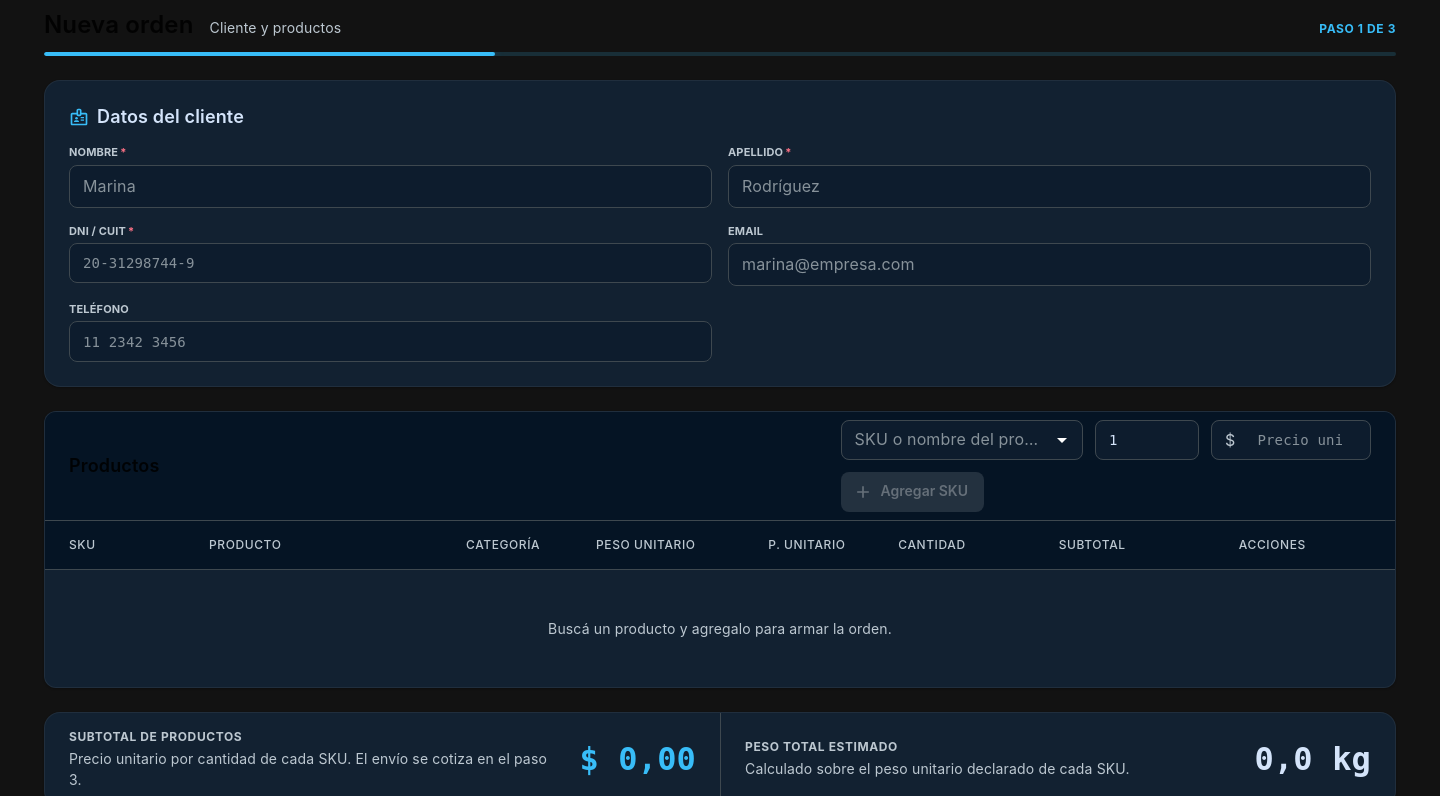
Test: NewOrderPage › keeps the next step locked with products but no customer
The width and height of the screenshot is (1440, 796).
Step 1. Type "PX-9021" into the dropdown named "Buscar por SKU o nombre" → (945, 440), box [847, 426, 1044, 454]
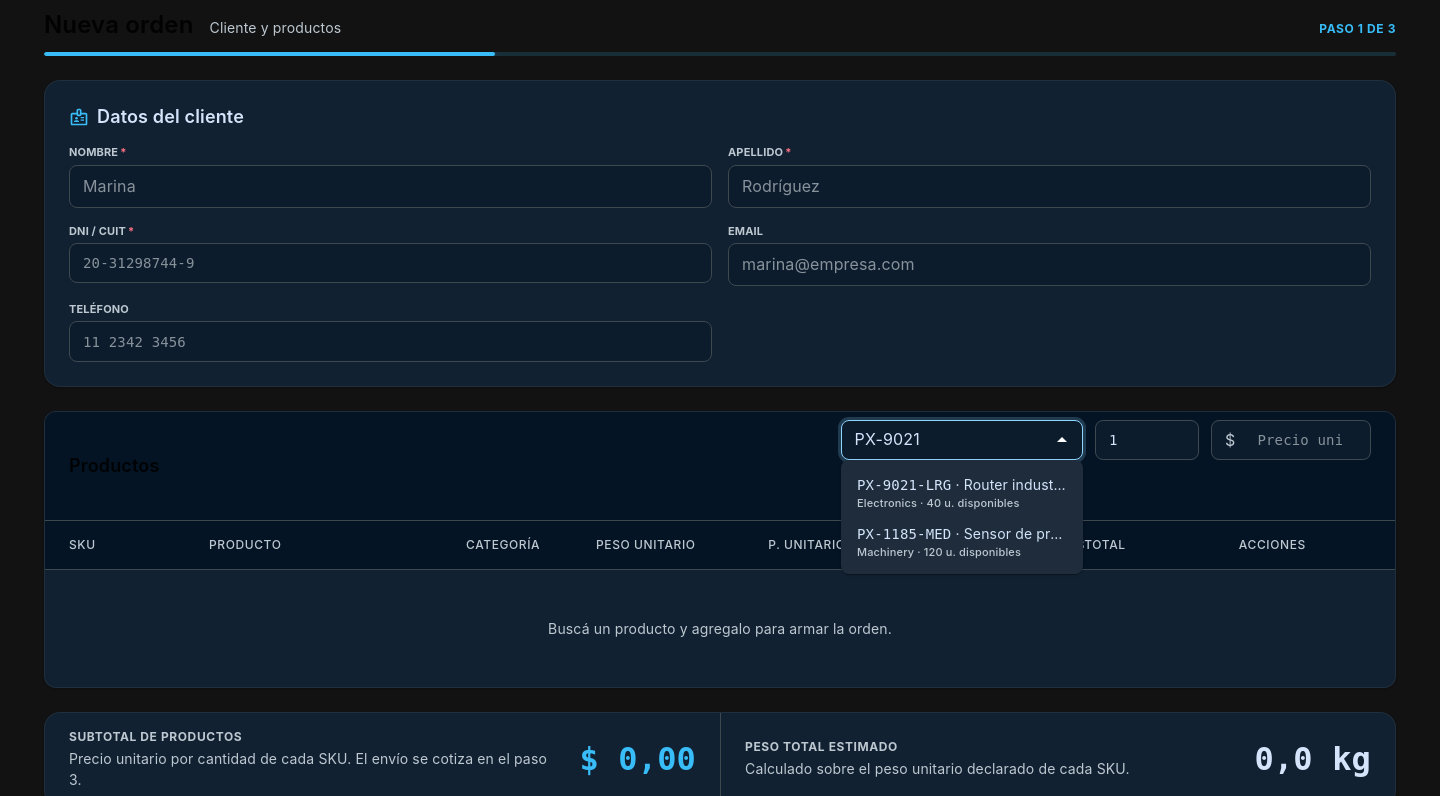
Step 2. Click the option "PX-9021" → (962, 492), box [841, 468, 1083, 517]
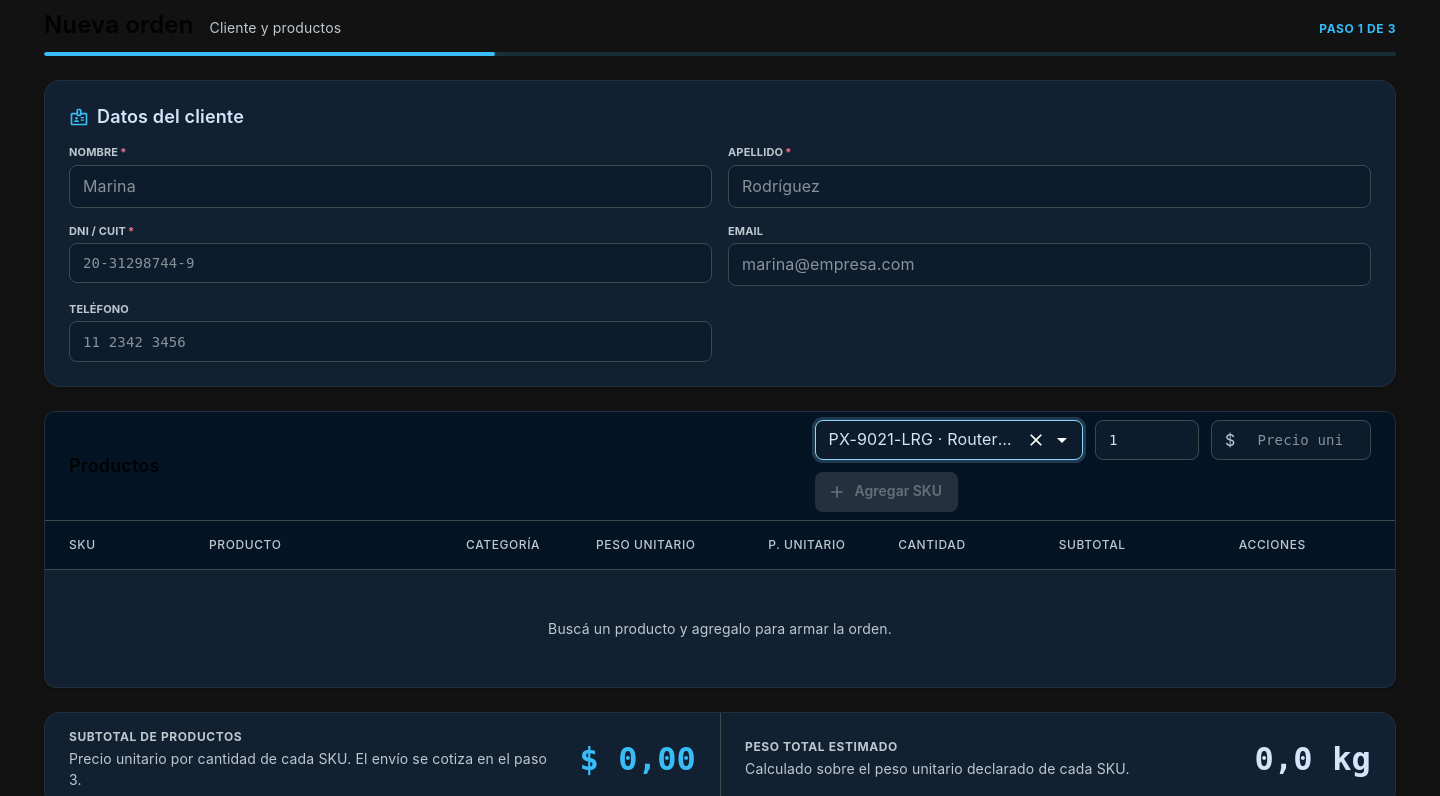
Step 3. Replace the text in the number field named "Cantidad" with "12" → (1147, 440), box [1095, 420, 1199, 460]
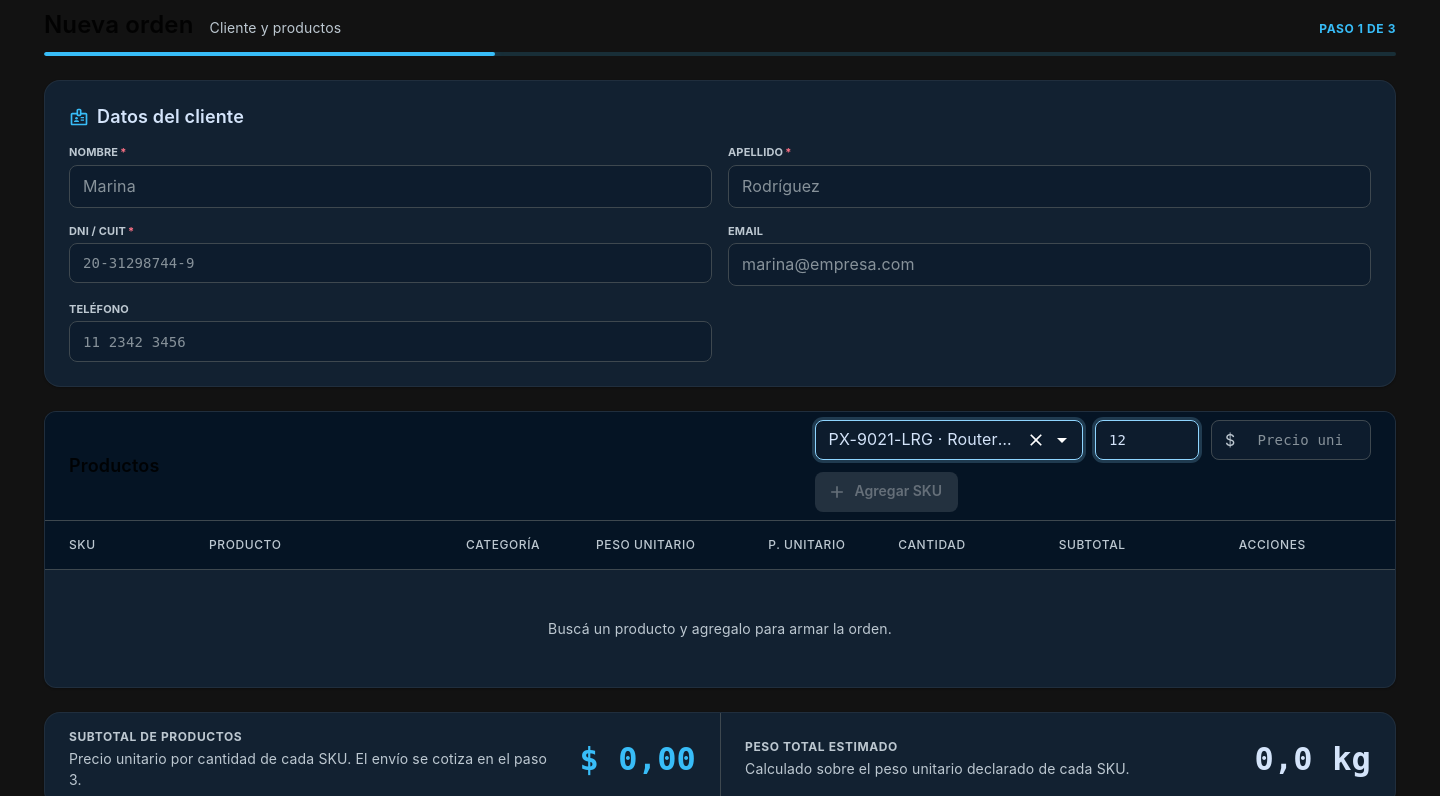
Step 4. Type "120000" into the number field labelled "Precio unitario" → (1307, 440), box [1243, 420, 1371, 460]
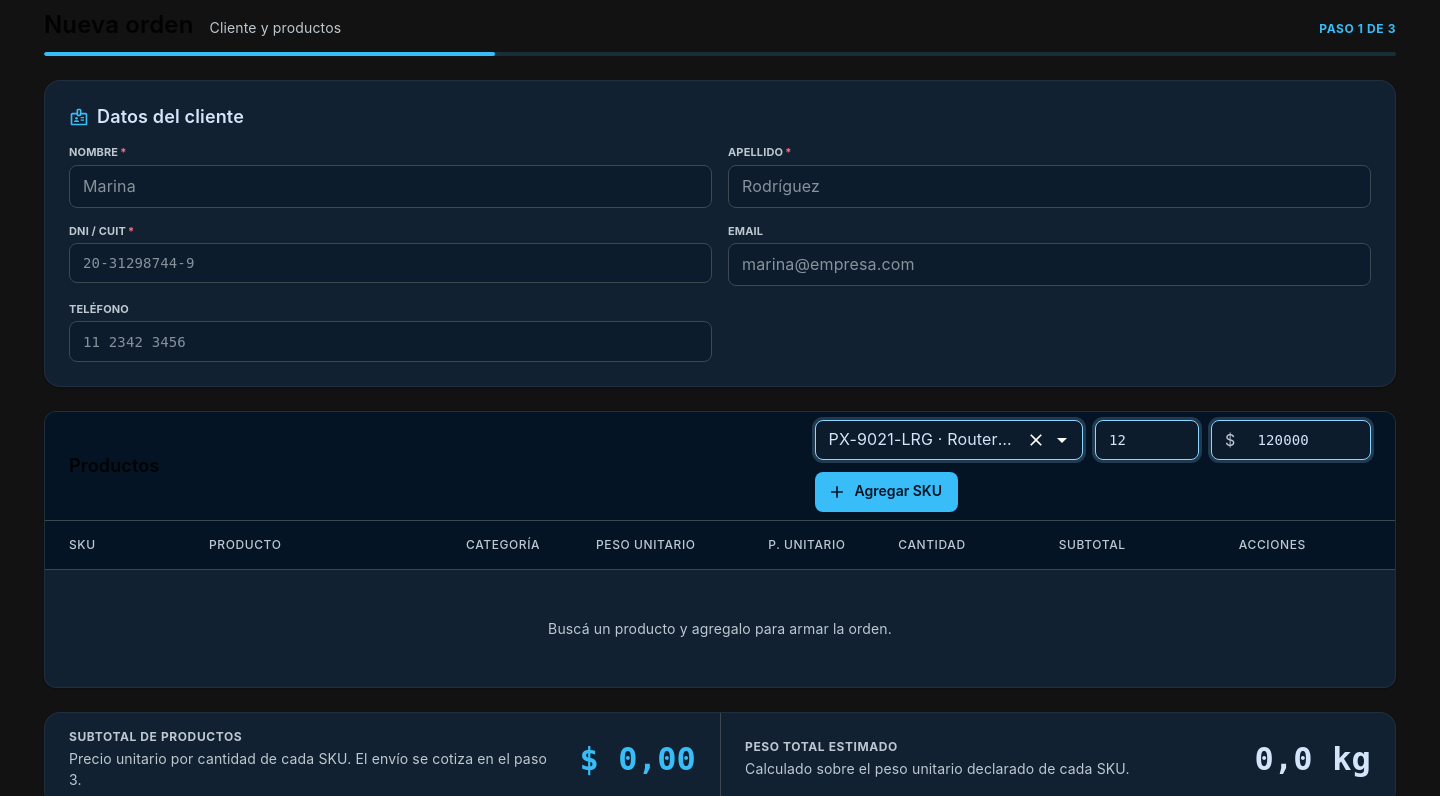
Step 5. Click the button "Agregar SKU" → (886, 492), box [815, 472, 958, 512]
(page scrolled)
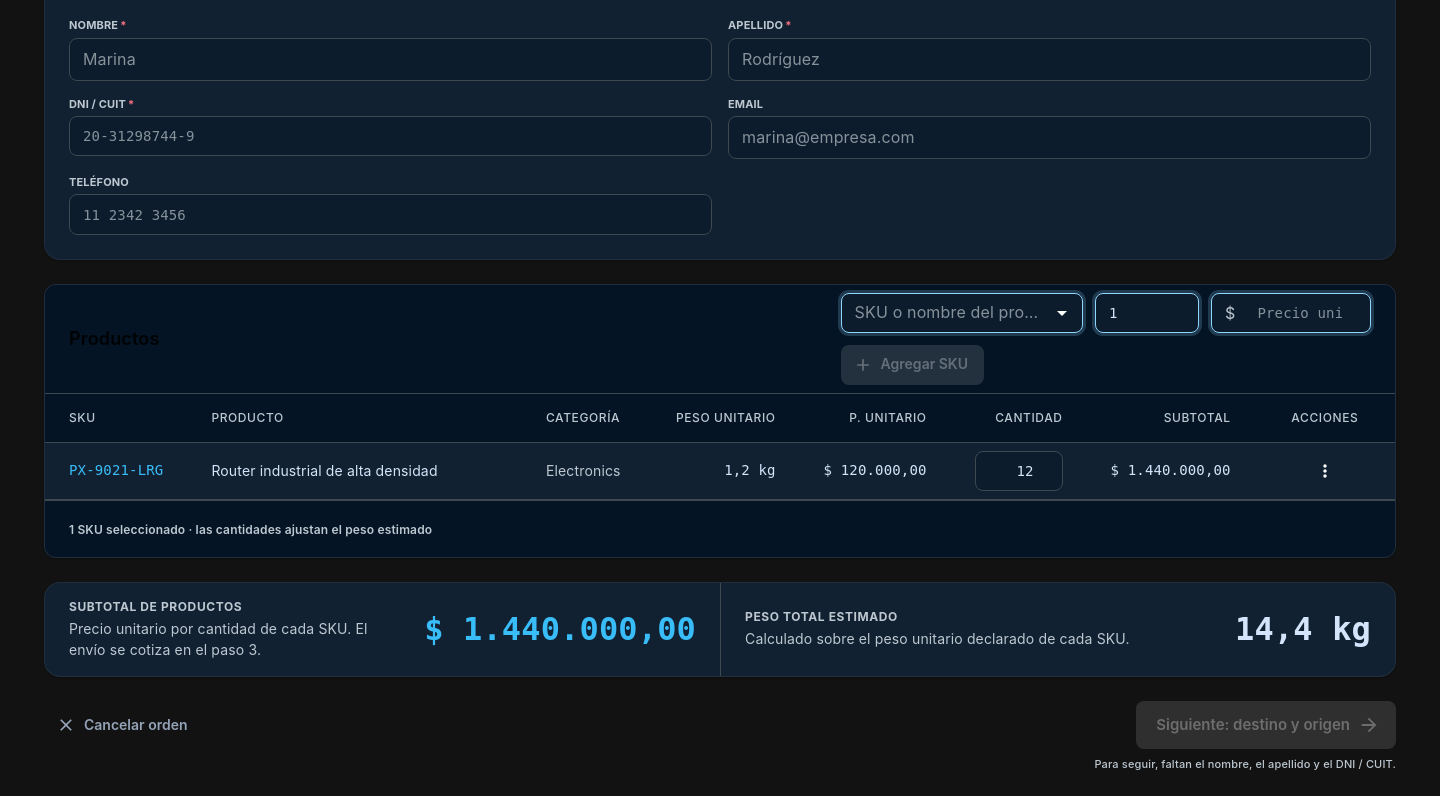
Expected: the button "Siguiente: destino y origen" is disabled, [1136, 701, 1396, 749]
Result: the row "PX-9021-LRG" is shown at [45, 442, 1395, 499]
